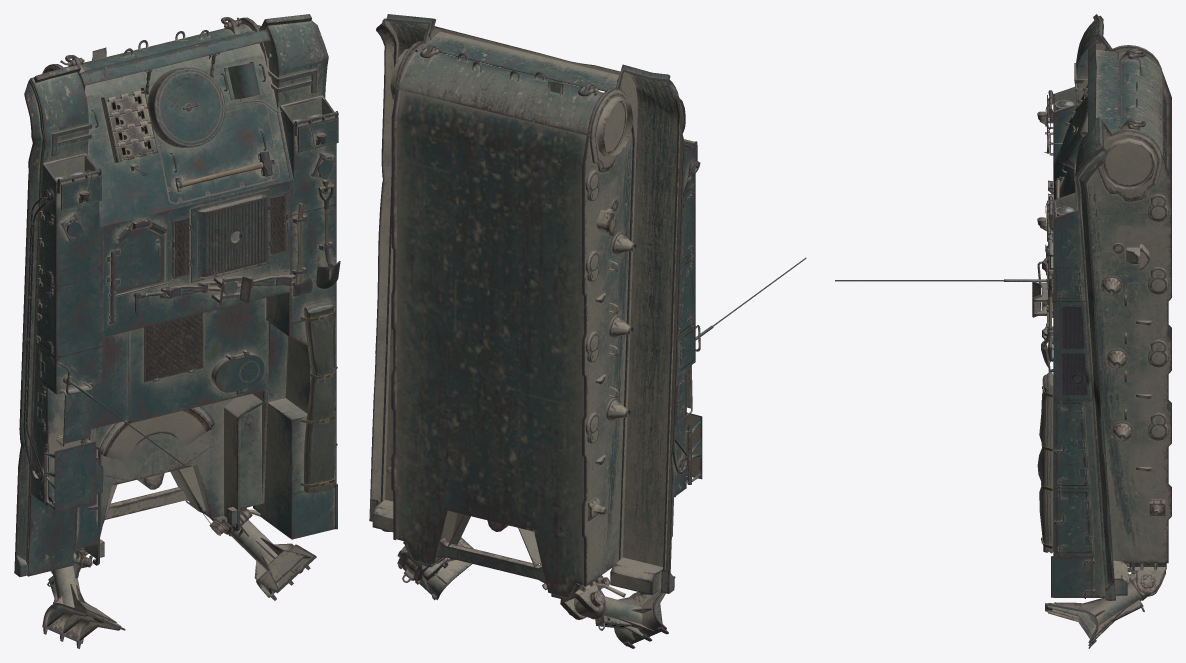
Rendered from Hull.glb.
3 renders of one model, left to right at view 1: azimuth 30°, elevation 25°; view 2: azimuth 150°, elevation 25°; view 3: azimuth 270°, elevation 25°, orthographic. The views are drawn at different scales.
Parts seen in each view (by area): view 1: set_0_group_0; view 2: set_0_group_0; view 3: set_0_group_0.
Boxes of the visible parts, x1,y1,x2,y2 form: set_0_group_0: (14,14,340,648); set_0_group_0: (369,14,806,648); set_0_group_0: (835,14,1171,648).
Size of the model in its own units: 2.74 by 5.09 by 2.93.
Materials: 1 (1 with a texture image).
